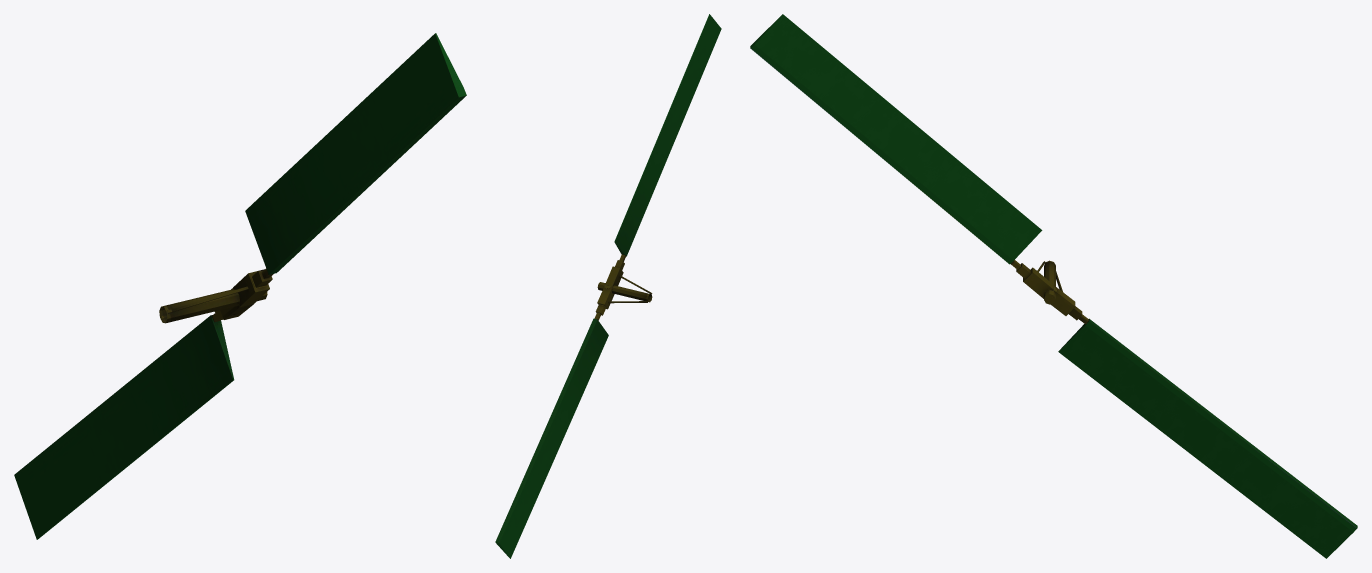
File: chopper2_blades_back.obj
The picture shows the model from 3 angles, left to right: view 1: azimuth 30°, elevation 25°; view 2: azimuth 150°, elevation 25°; view 3: azimuth 270°, elevation 25°; orthographic projection. The views are drawn at different scales.
Visible parts, largest first — view 1: Catoon_AH1_fan2; view 2: Catoon_AH1_fan2; view 3: Catoon_AH1_fan2.
Part boxes in pixels (box(x1,y1,x2,y2)): Catoon_AH1_fan2: box(14, 33, 466, 539); Catoon_AH1_fan2: box(495, 14, 721, 558); Catoon_AH1_fan2: box(750, 14, 1357, 558).
Bounding box in the file's own units: 1.53 × 11.57 × 11.69.
Materials: 1 (1 with a texture image).
